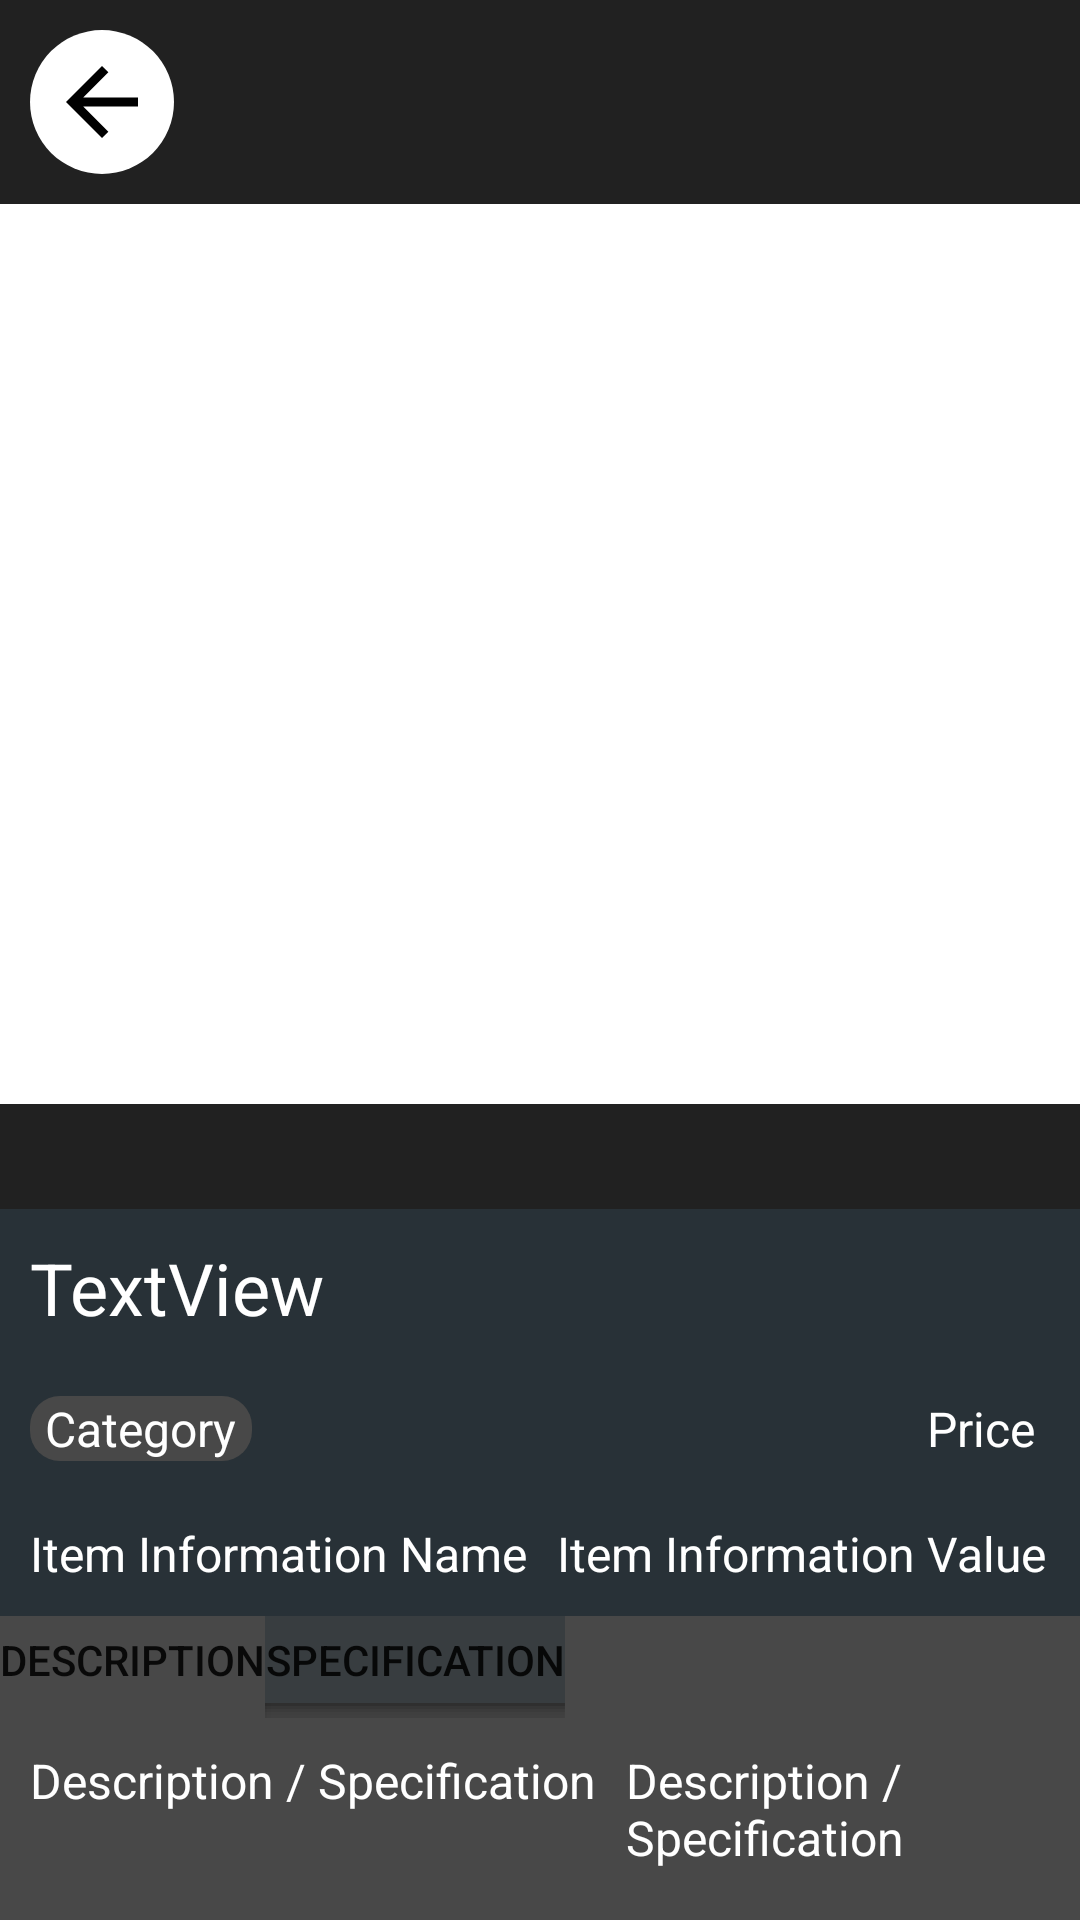

Where to tap for icons on this 1080*1920 app screen, as point (x, y):
Return button: point (102, 102)
